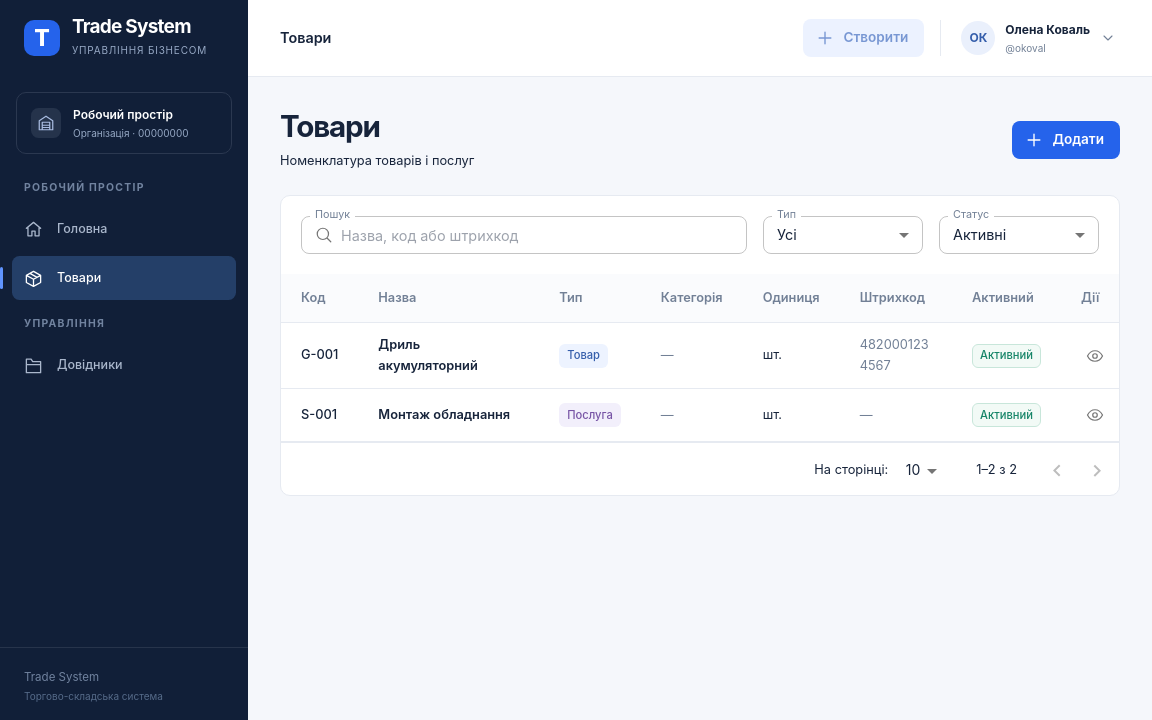
Test: Product UI › filters GOODS and SERVICE through API query parameters
The image size is (1152, 720).
Expected: the link "Дриль акумуляторний" is shown, [378,337,478,373]
Click the dropdown named "Тип". click: (787, 234)
box: [777,226,797,243]
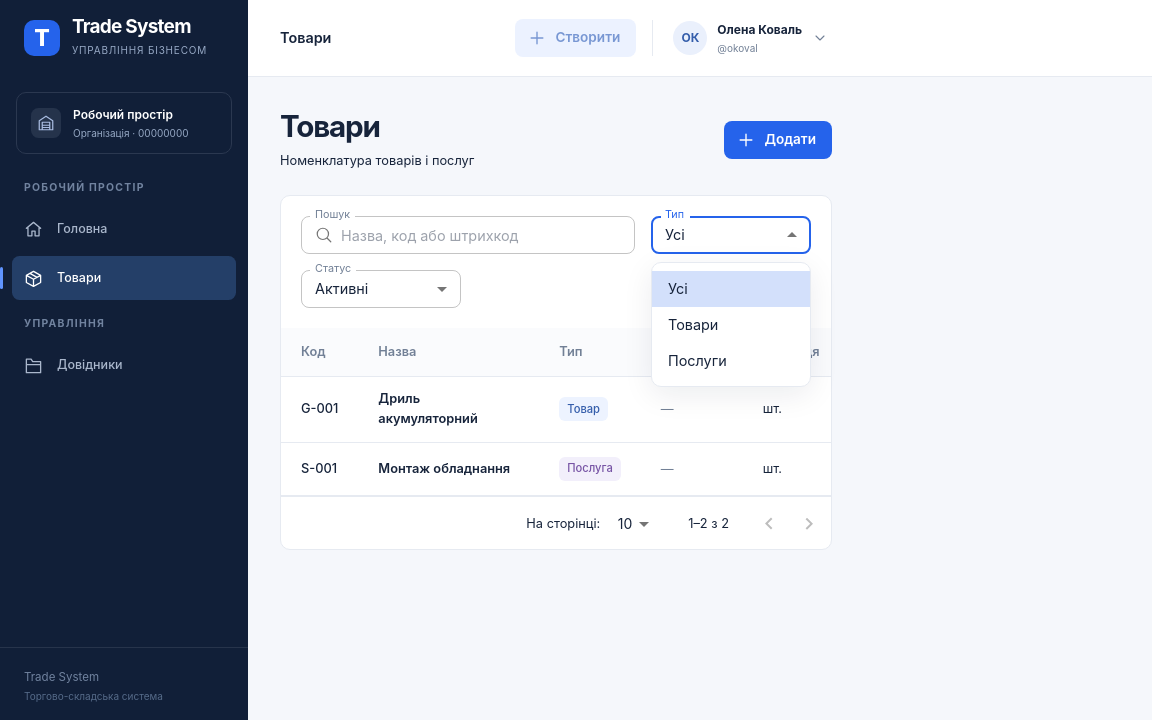
Click the option "Послуги". click: (697, 360)
box: [668,352,727,368]
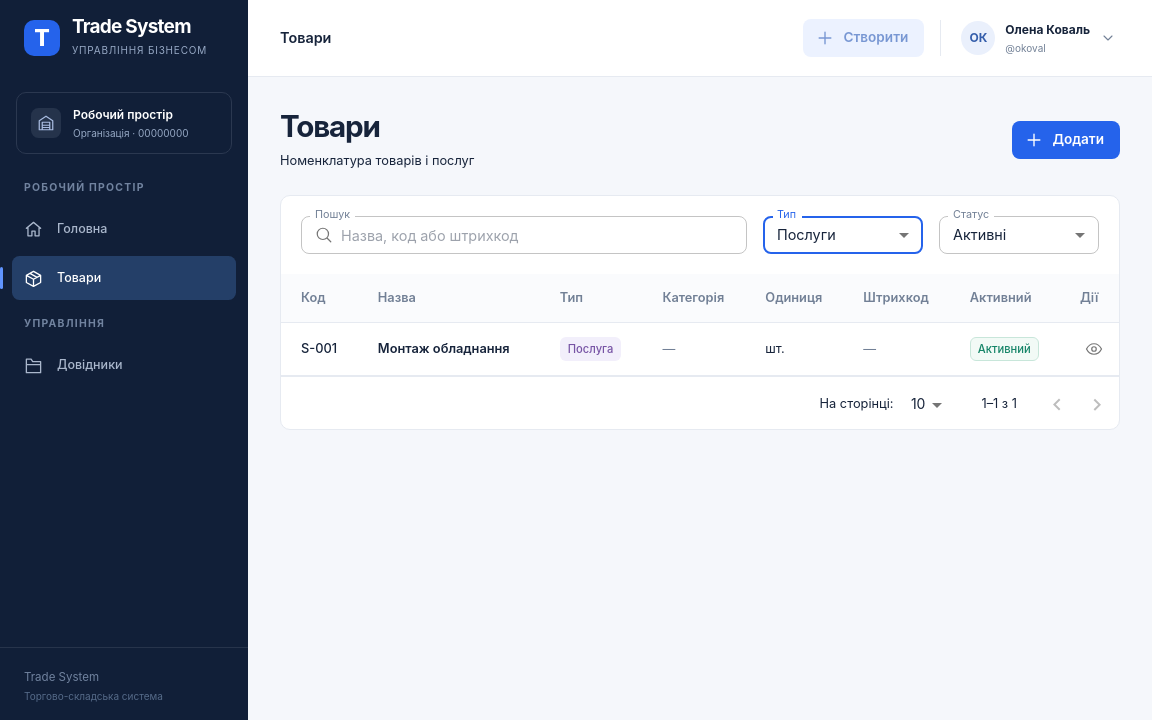
Expected: the link "Монтаж обладнання" is shown, [378,341,510,356]
Expected: the link "Дриль акумуляторний" is gone
Click the dropdown named "Тип". click: (806, 234)
box: [777,226,836,243]
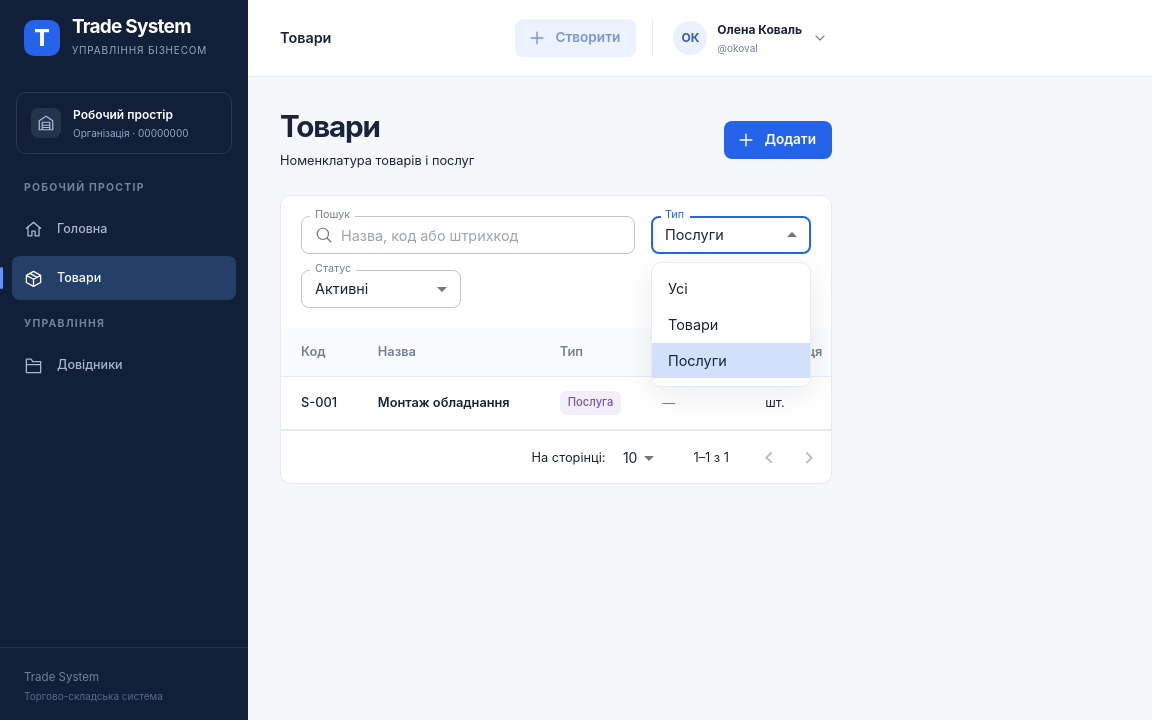
Click the option "Товари". click: (693, 324)
box: [668,316,718,333]
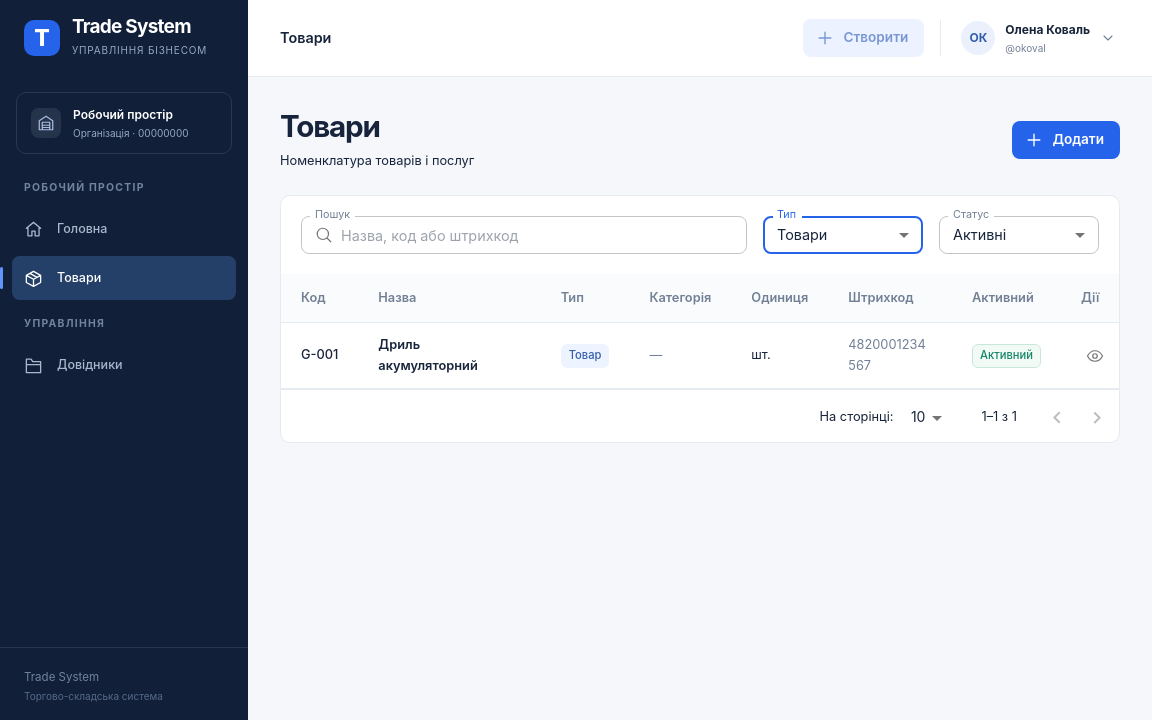
Expected: the link "Дриль акумуляторний" is shown, [378,337,478,373]
Expected: the link "Монтаж обладнання" is gone
